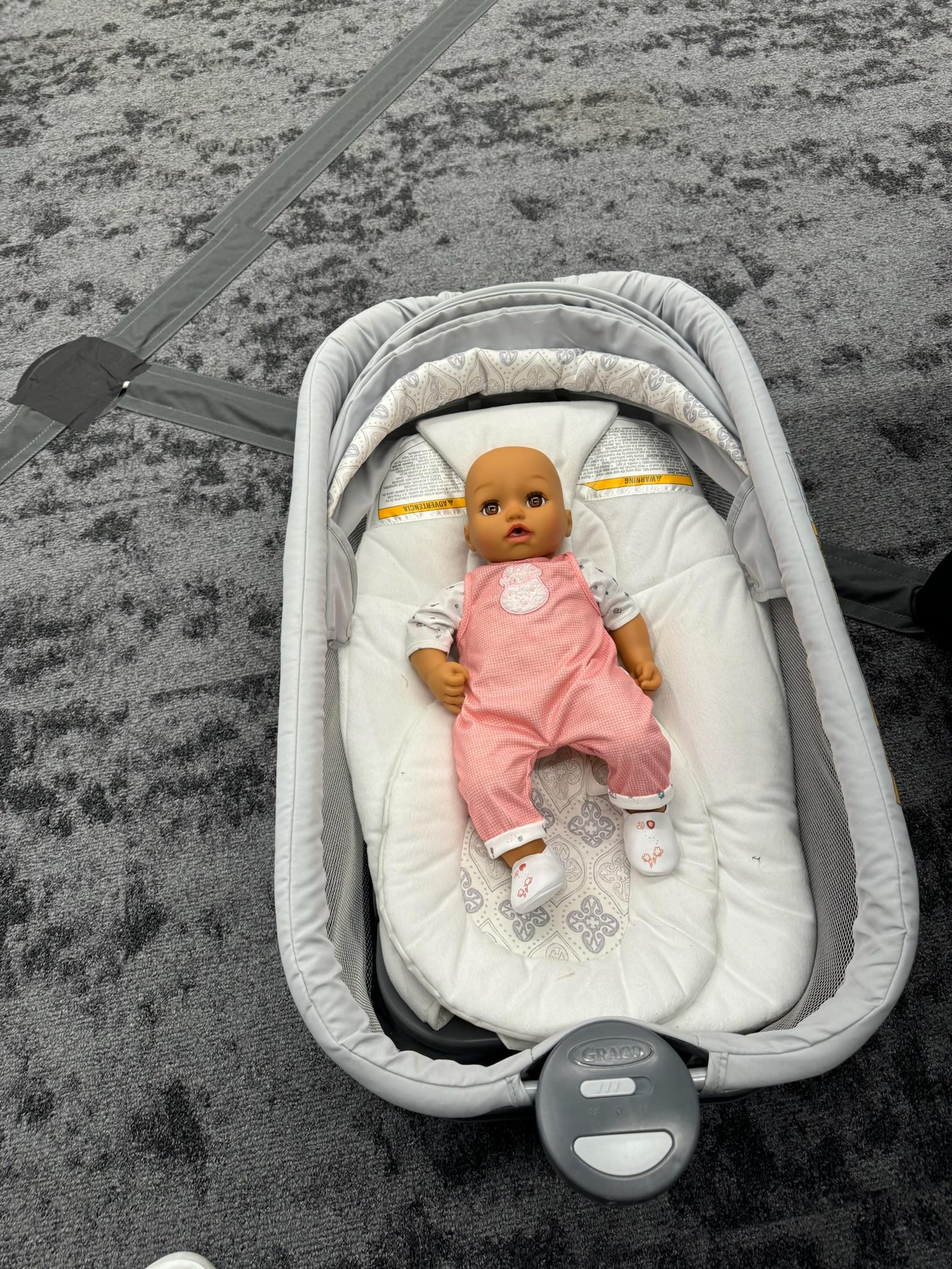baby: (405, 438, 696, 895)
